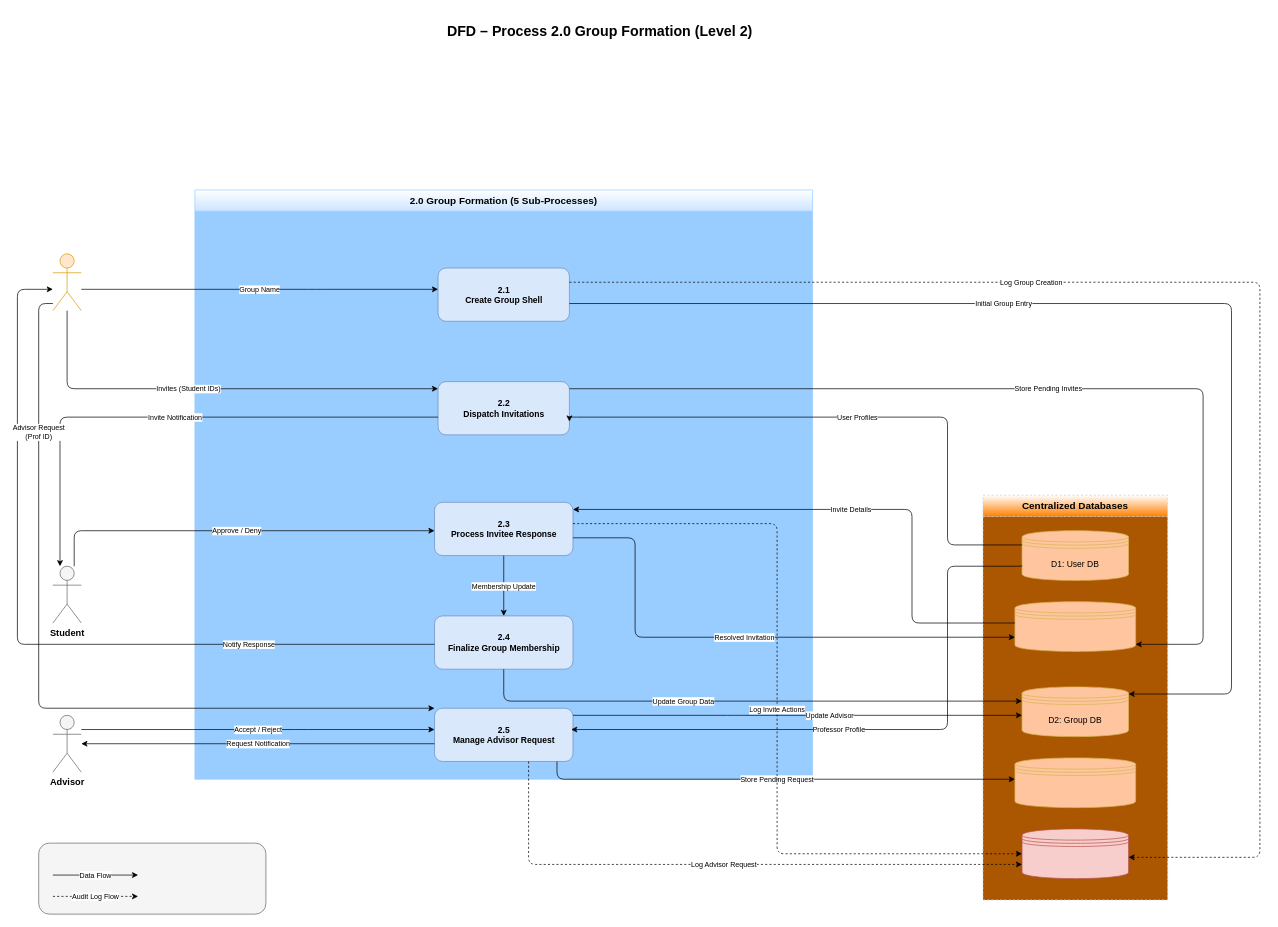
This 1278x927 diagram has some shape labels left out. Here are the shapes that lost their labels. From the top down, the box of each, then its label:
(52, 253, 81, 311): Team Leader
(1014, 601, 1136, 651): D8: Pending Invitations
(1014, 757, 1136, 808): D7: Pending Advisor Requests
(1021, 828, 1129, 879): D6: Audit Logs
(38, 842, 266, 914): Legend
